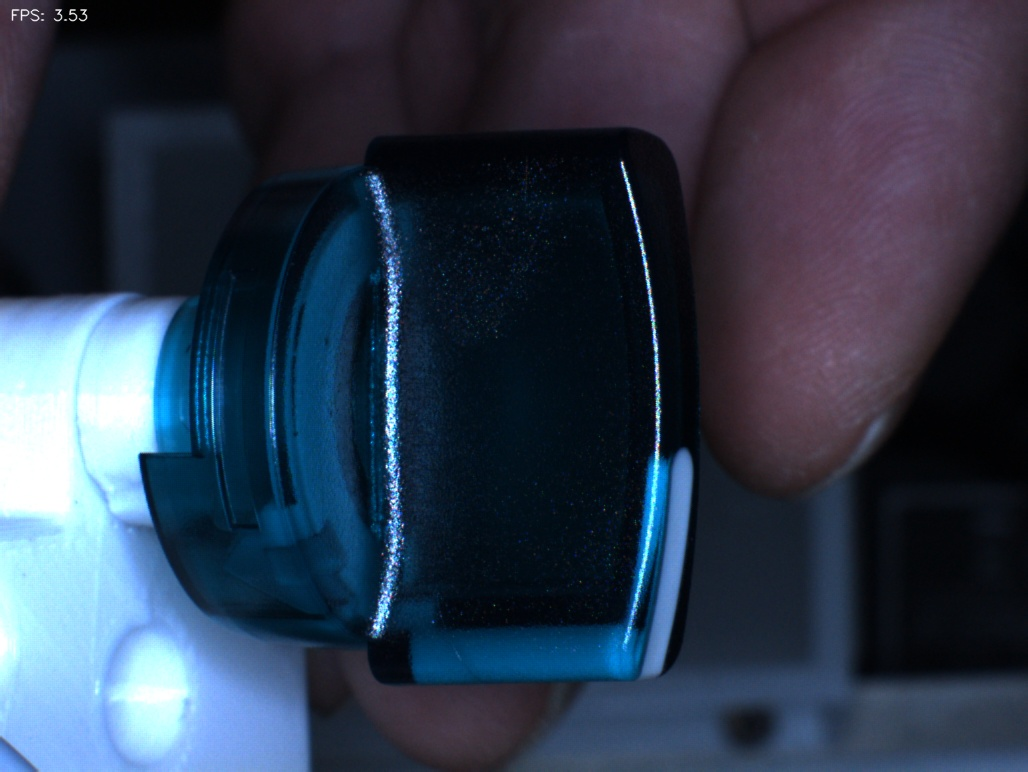PointNoir: (301, 307, 363, 383)
